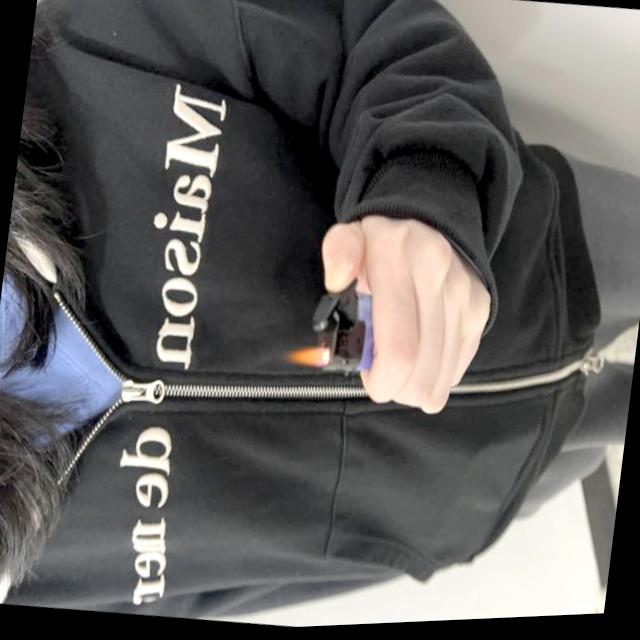Fire: (282, 341, 334, 374)
